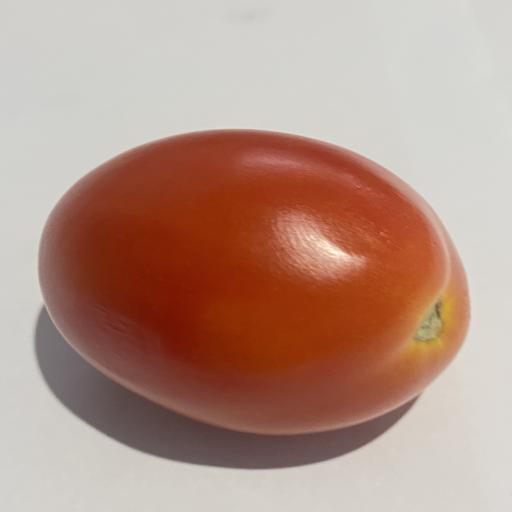ripe: (39, 130, 469, 434)
